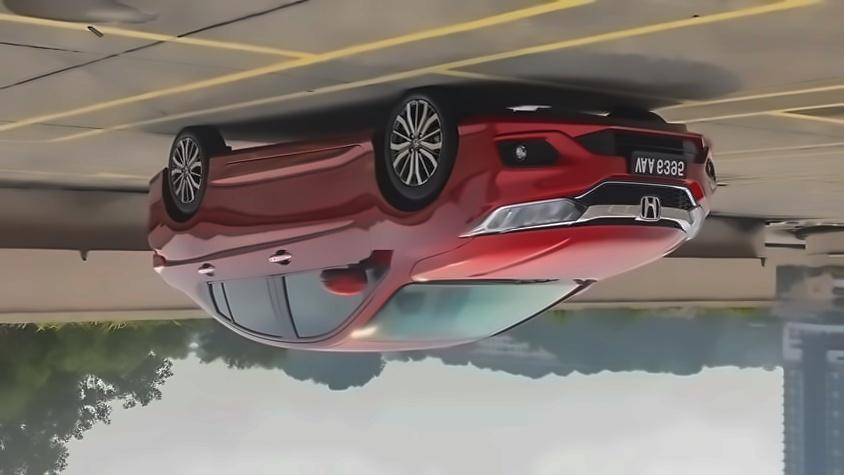Car hood: (408, 222, 690, 284)
Fender - -F-L-: (367, 119, 475, 259)
Fender - -R-L-: (148, 160, 236, 304)
Front bumper: (452, 112, 720, 223)
Headlight - -L-: (460, 192, 589, 236)
Passenger-s door - -F-L-: (260, 122, 394, 356)
Passenger-s door - -R-L-: (196, 141, 288, 352)
Side bumper - -L-: (204, 127, 381, 197)
Side mirror - -L-: (319, 255, 375, 297)
